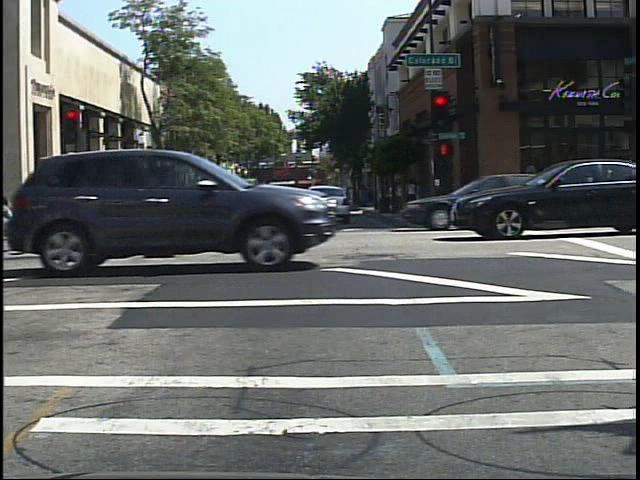person: (89, 187, 104, 228), (161, 181, 178, 217), (138, 181, 156, 212)
